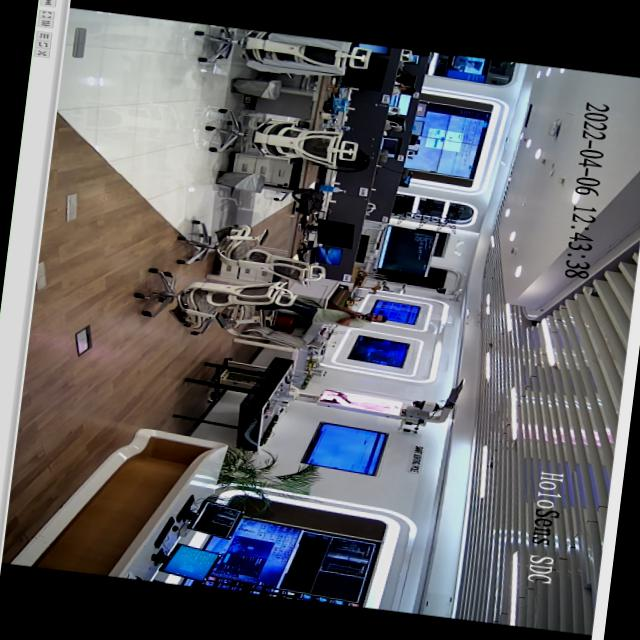long weapon: (347, 311, 369, 321)
